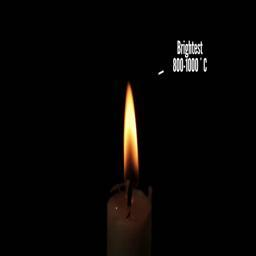fire: (123, 86, 139, 171)
